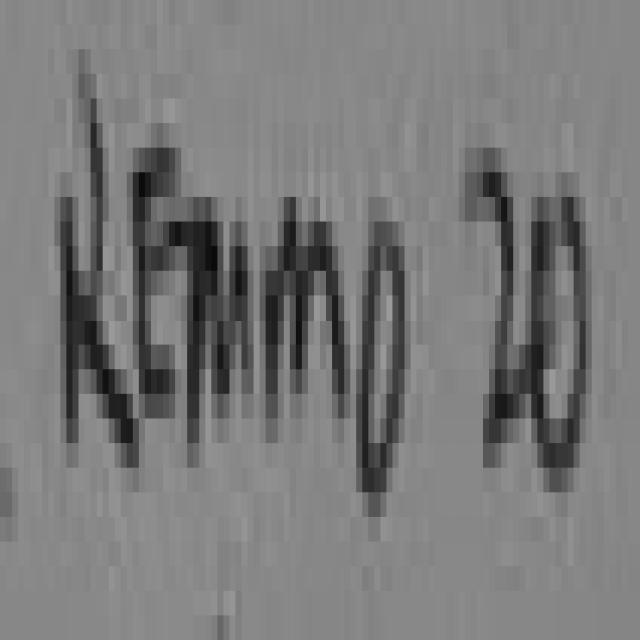0: (532, 189, 594, 480)
2: (474, 172, 533, 462)
E: (133, 148, 184, 418)
M: (266, 208, 348, 417), (187, 211, 257, 437)
O: (358, 222, 405, 492)
R: (58, 81, 135, 442)
